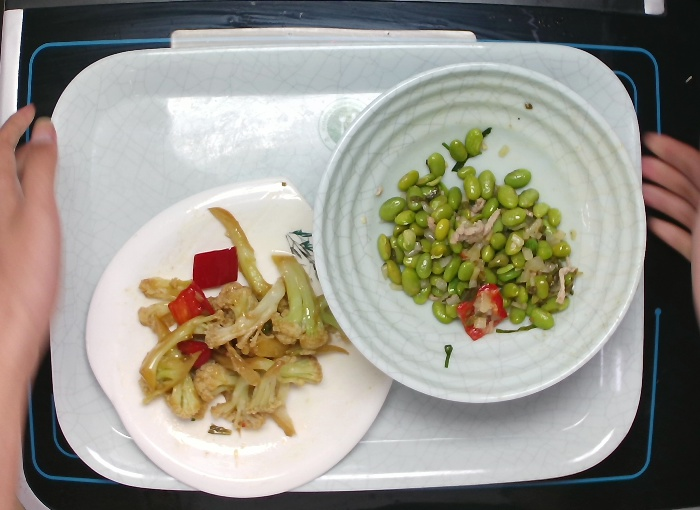JYsf-Da_Tang_Wan: (308, 56, 648, 411)
JYsf-Mian_Pan: (77, 169, 405, 505)
